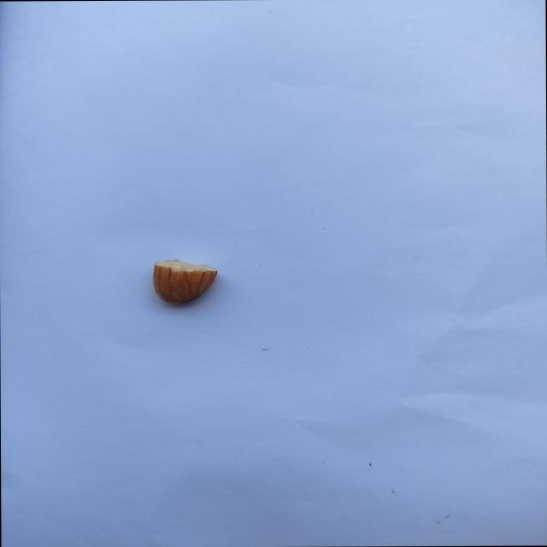grade4: (147, 256, 225, 310)
